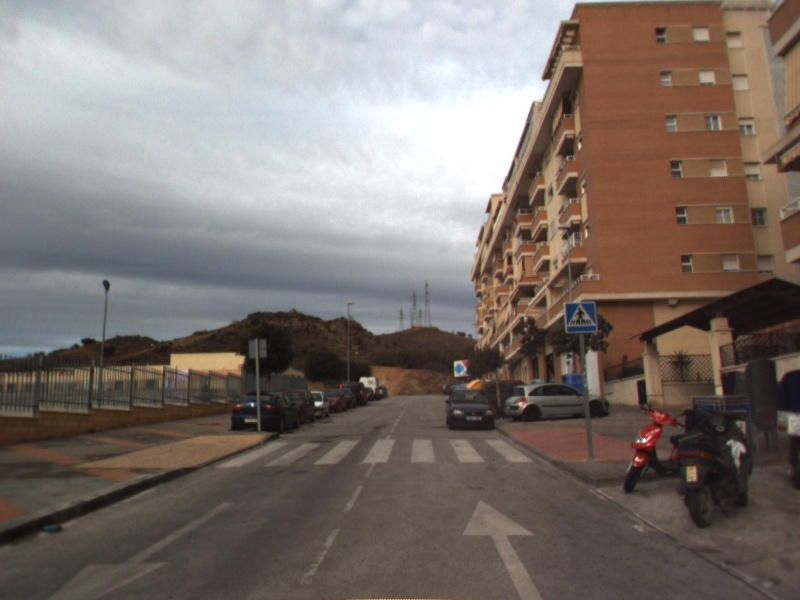STRAIGHT: (460, 497, 547, 600)
